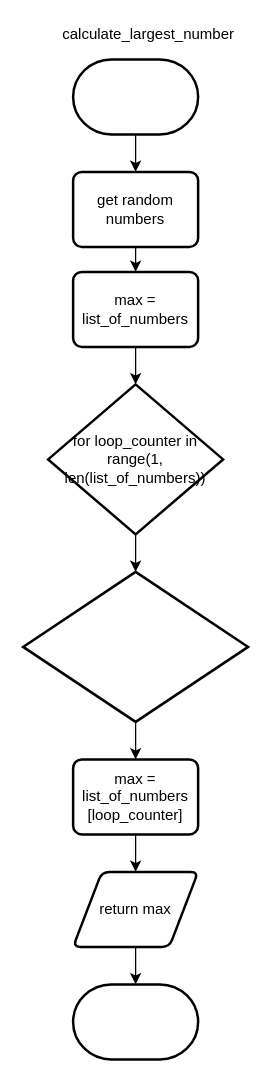
Image size: 270x1081. Some labels were removed from this diagram. The shapes that lost their labels are listed below. From the top down, each one's box as (x1, y1, x2, y2) in pixels, then its label:
(71, 58, 199, 135): start
(21, 570, 249, 722): for loop_counter in if list_of_numbers[loop_counter] > max
(71, 982, 199, 1060): stop
